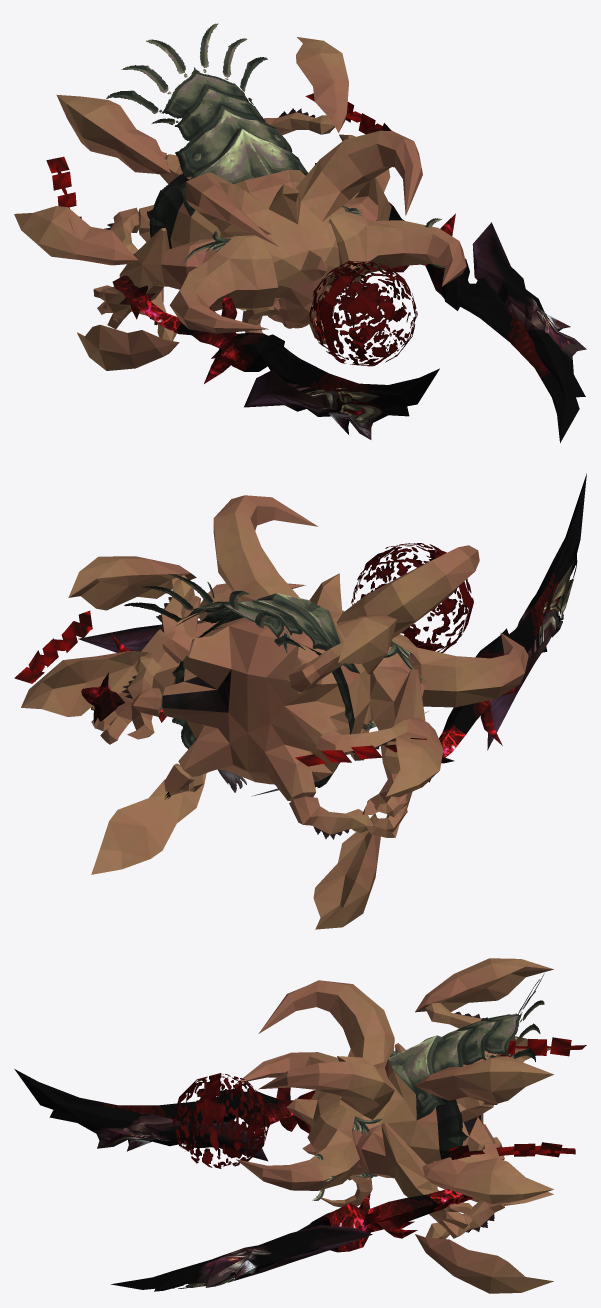
Rendered from jinhuadaka.obj.
The picture shows the model from 3 angles, top to bottom: view 1: azimuth 30°, elevation 25°; view 2: azimuth 150°, elevation 25°; view 3: azimuth 270°, elevation 25°; orthographic projection. The views are drawn at different scales.
Parts seen in each view (by area): view 1: jinhuadaka, inhuadaka_1, Object03, Sphere02, liuguang01, liuguang, Object01, jinhuadaka_zhuangbei02, Object02; view 2: jinhuadaka, inhuadaka_1, Object03, liuguang, Sphere02, Object02, liuguang01, Object01, jinhuadaka_zhuangbei02; view 3: jinhuadaka, inhuadaka_1, liuguang01, liuguang, Sphere02, Object01, Object03, Object02, jinhuadaka_zhuangbei02.
Part boxes in pixels (box(x1,y1,x2,y2)): jinhuadaka: box(14, 23, 466, 370); inhuadaka_1: box(186, 130, 422, 246); Object03: box(112, 275, 422, 415); Sphere02: box(309, 260, 417, 366); liuguang01: box(472, 222, 586, 442); liuguang: box(244, 368, 439, 439); Object01: box(315, 163, 562, 413); jinhuadaka_zhuangbei02: box(46, 156, 81, 232); Object02: box(305, 93, 391, 134); jinhuadaka: box(21, 556, 528, 929); inhuadaka_1: box(213, 495, 479, 637); Object03: box(428, 502, 579, 782); liuguang: box(487, 473, 586, 750); Sphere02: box(351, 543, 473, 652); Object02: box(14, 610, 92, 683); liuguang01: box(78, 620, 201, 652); Object01: box(81, 634, 166, 723); jinhuadaka_zhuangbei02: box(295, 738, 426, 766); jinhuadaka: box(236, 958, 553, 1293); inhuadaka_1: box(258, 980, 394, 1119); liuguang01: box(111, 1225, 372, 1291); liuguang: box(14, 1069, 268, 1161); Sphere02: box(172, 1073, 270, 1168); Object01: box(298, 1189, 473, 1252); Object03: box(40, 1082, 315, 1133); Object02: box(449, 1142, 575, 1159); jinhuadaka_zhuangbei02: box(498, 1037, 586, 1057).
Bounding box in the file's own units: 287 × 215 × 409.
Materials: 6 (6 with a texture image).
